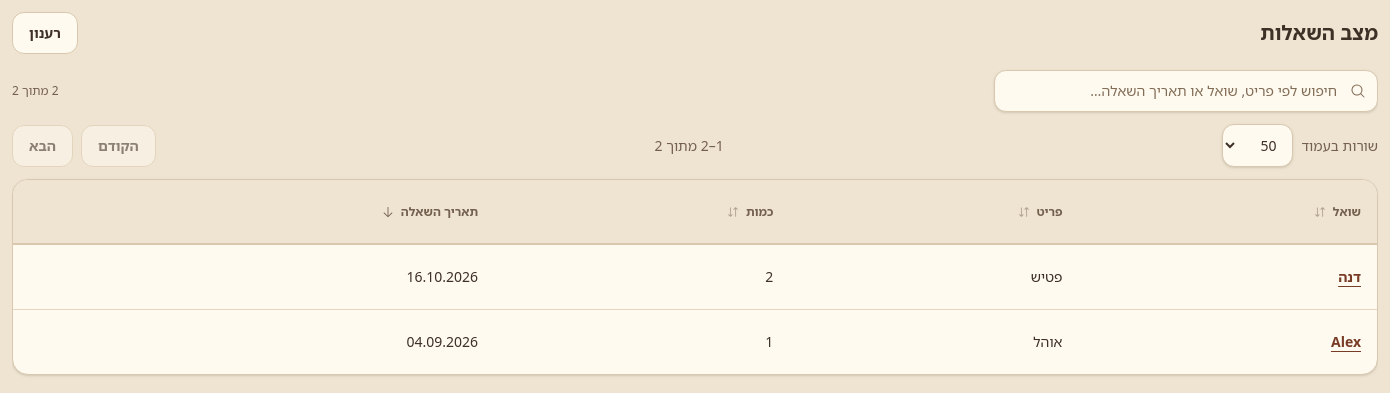
Test: outstanding loan status › filters by item, borrower, and local borrow date: 09.2026
In the field named "סינון הטבלה": point(1186, 91) left=994, top=70, right=1378, bottom=112, type "09.2026"
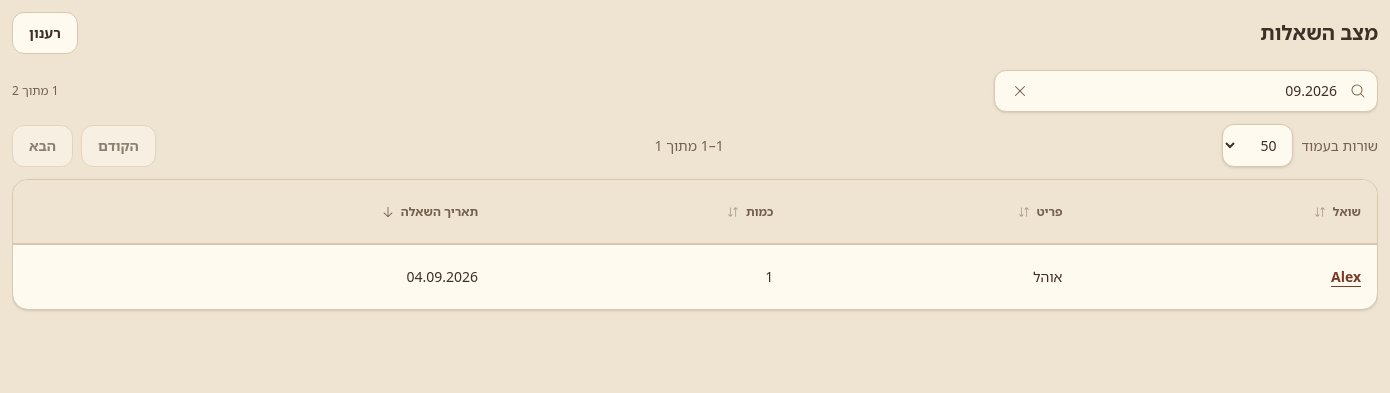
Expected: the button "Alex" is shown, left=1331, top=257, right=1361, bottom=297
Expected: the number of rows is 2, left=13, top=180, right=1377, bottom=244; left=13, top=244, right=1377, bottom=309
Click the button named "ניקוי סינון": point(1020, 91) left=1000, top=71, right=1040, bottom=111
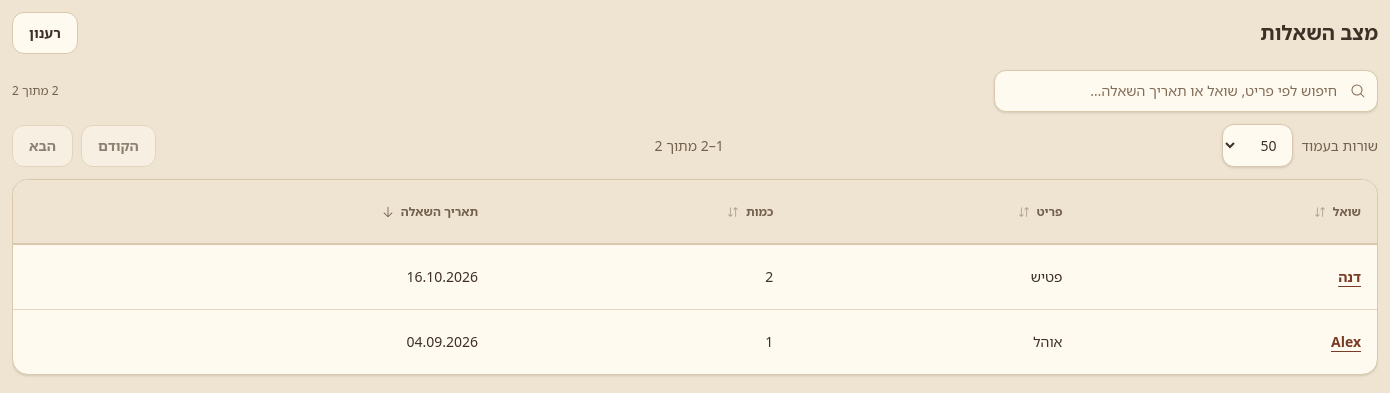
Expected: the number of rows is 3, left=13, top=180, right=1377, bottom=244; left=13, top=244, right=1377, bottom=310; left=13, top=310, right=1377, bottom=374
